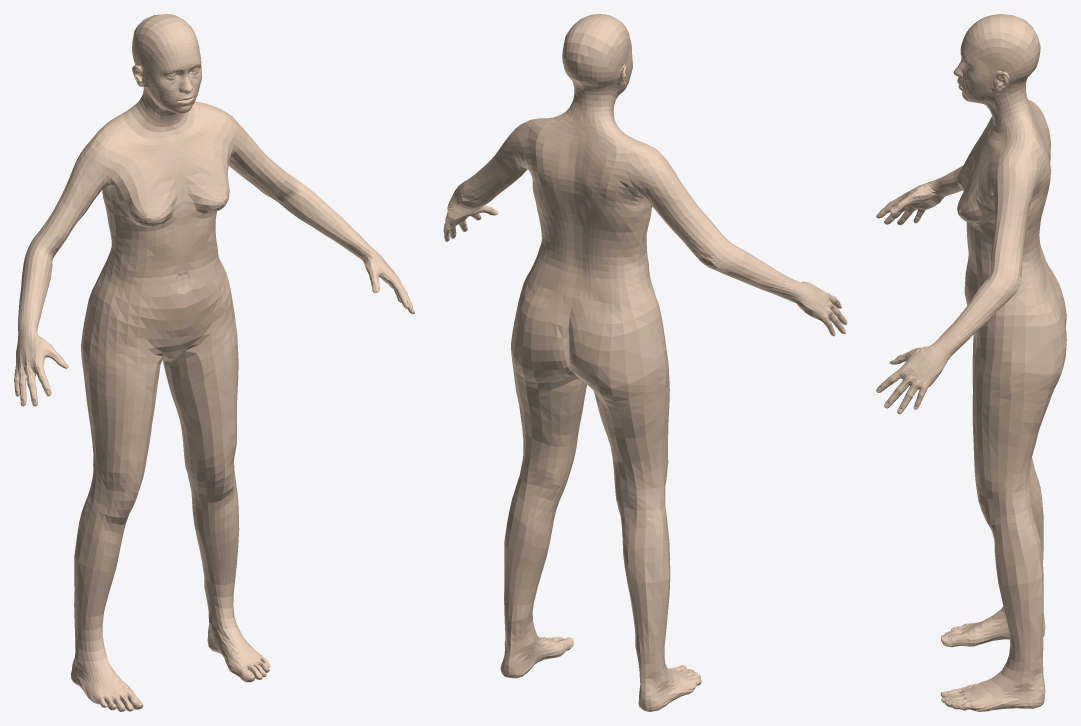
The model's file is female-mature-average-low.glb.
The picture shows the model from 3 angles, left to right: view 1: azimuth 30°, elevation 25°; view 2: azimuth 150°, elevation 25°; view 3: azimuth 270°, elevation 25°; orthographic projection.
Visible parts, largest first — view 1: world; view 2: world; view 3: world.
Part boxes in pixels (x1=…): world: x1=14, y1=14, x2=414, y2=711; world: x1=443, y1=14, x2=847, y2=711; world: x1=876, y1=14, x2=1066, y2=711.
Bounding box in the file's own units: 1.12 × 1.81 × 0.4761.
